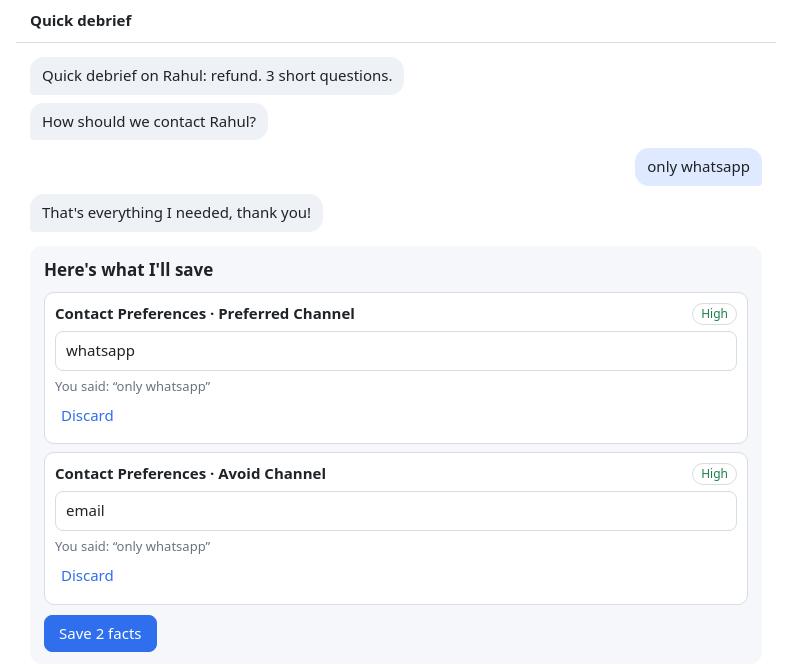
it: summary, review and save › shows a saved screen after confirming
The width and height of the screenshot is (793, 669).
Click the button "Save 2 facts" at (100,634), box [44,615,156,652]
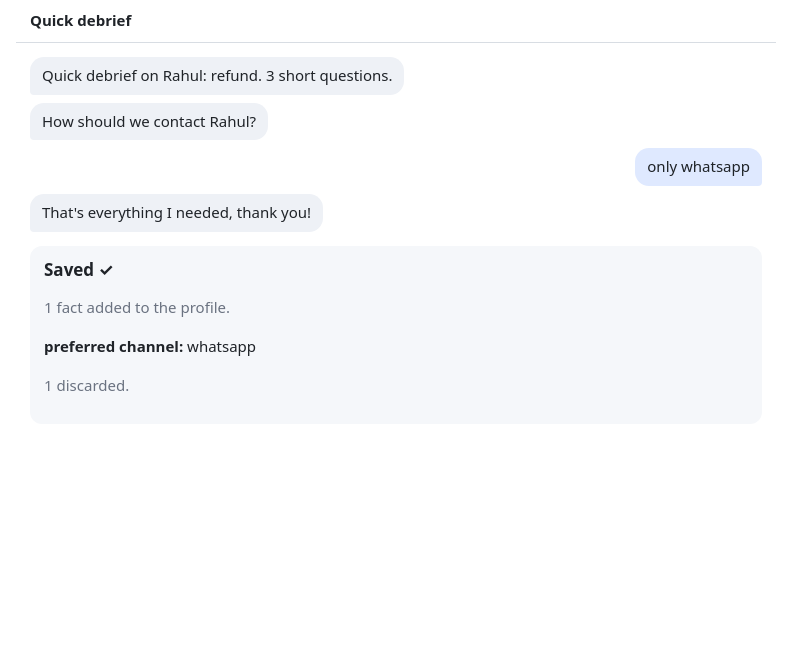
Check: the heading "Saved ✓" is shown, box [44,258,114,281]
Check: the text "1 fact added to the profile." is shown, box [44,297,230,317]
Check: the text "1 discarded." is shown, box [44,375,129,395]
